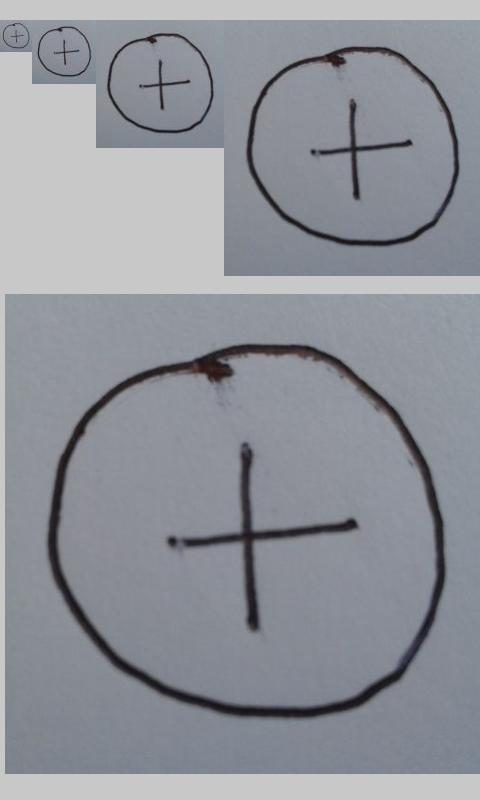button: (43, 339, 449, 720), (246, 45, 461, 249), (106, 32, 214, 134), (37, 26, 93, 78), (2, 22, 30, 49)
